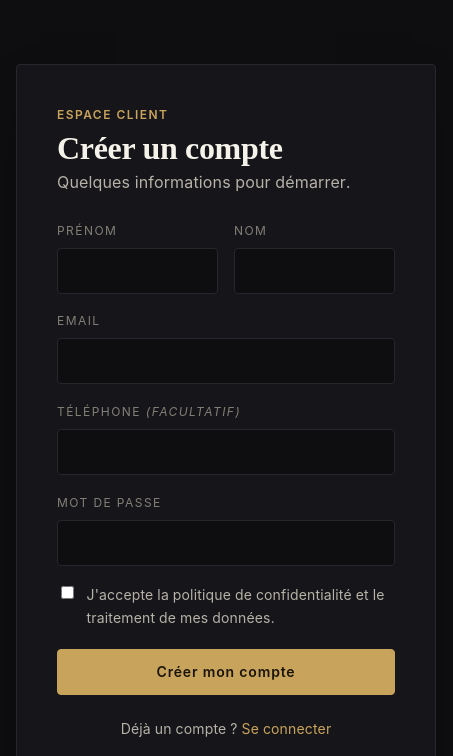
Test: inscription.vue › surfaces a friendly message when the email already exists (409)
Step 1. Type "Jean" into the field labelled "Prénom" → (138, 271), box x1=57 y1=248 x2=218 y2=294
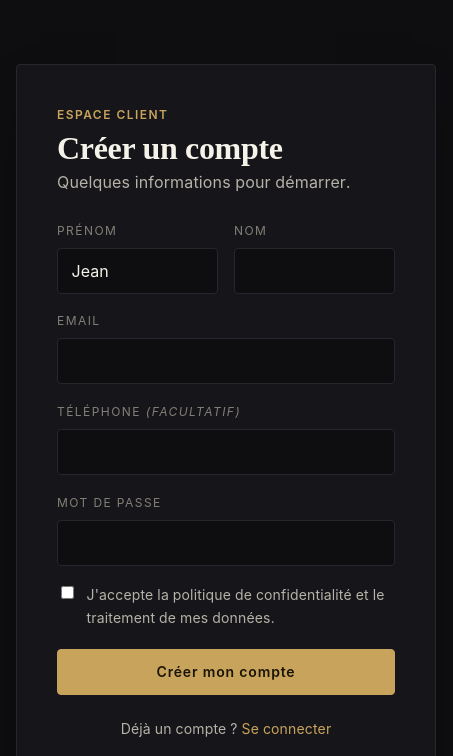
Step 2. Type "Dupont" into the field labelled "Nom" → (314, 271), box x1=234 y1=248 x2=395 y2=294
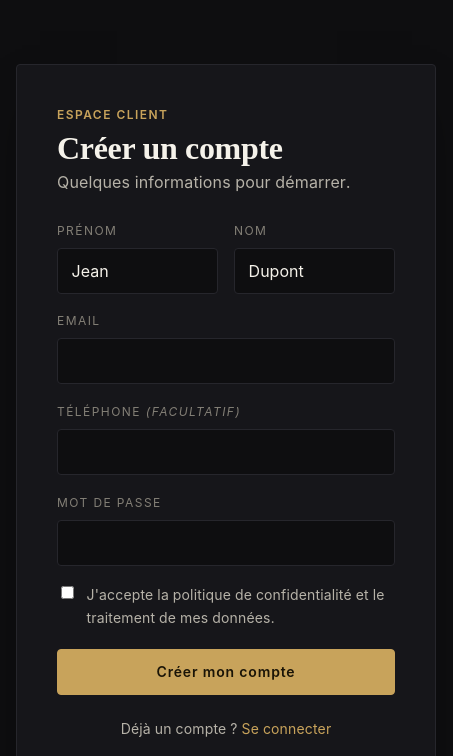
Step 3. Type "buyer@example.com" into the field labelled "Email" → (226, 362), box x1=57 y1=338 x2=395 y2=384
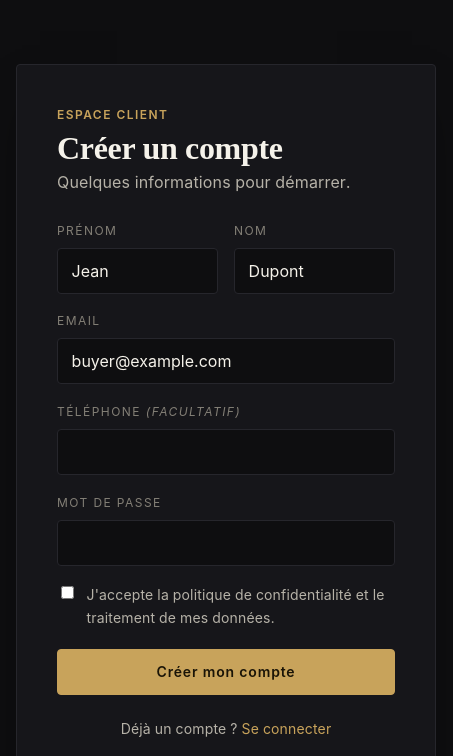
Step 4. Type "longenoughpassword" into the password field labelled "Mot de passe" → (226, 543), box x1=57 y1=520 x2=395 y2=566
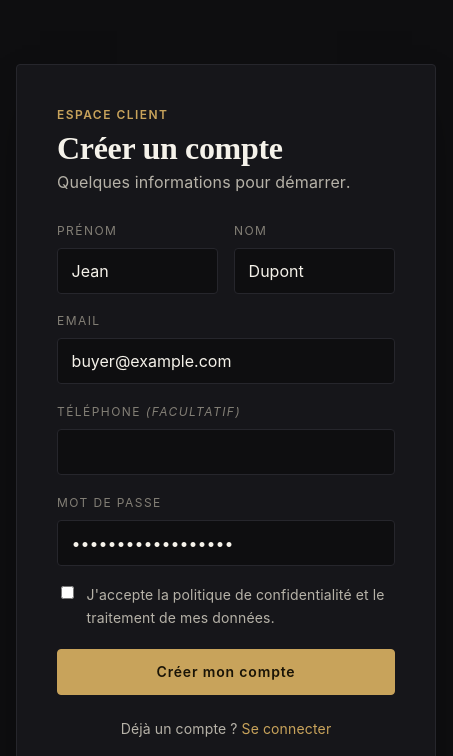
Step 5. Click the checkbox → (68, 593), box x1=61 y1=586 x2=74 y2=599
(page scrolled)
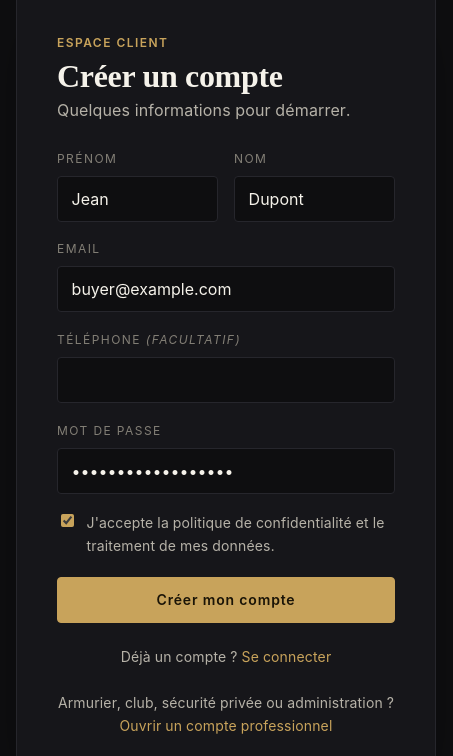
Step 6. Submit the form
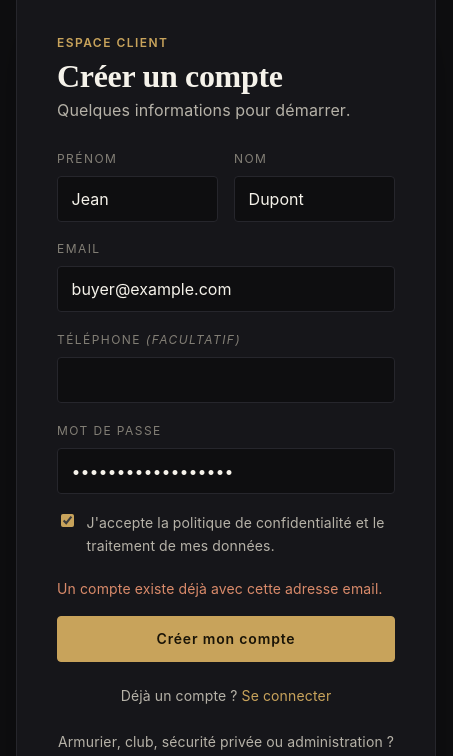
Expected: the text "Un compte existe déjà" is shown, x1=57 y1=580 x2=382 y2=597
